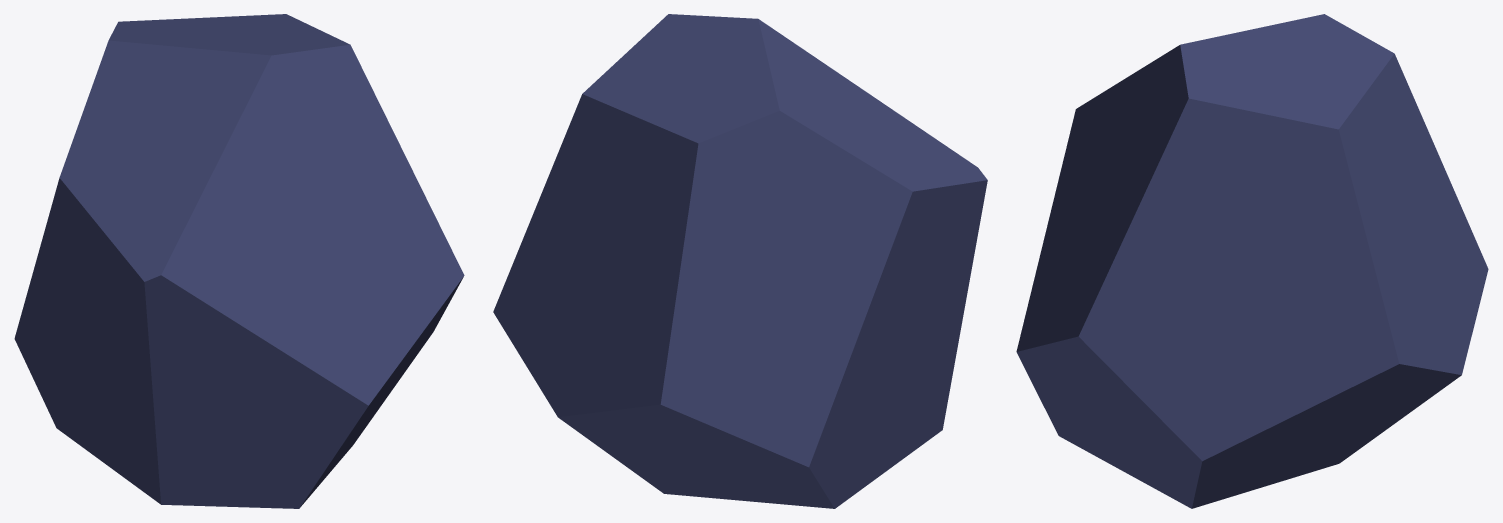
The model's file is StoneSmall1.fbx.
3 renders of one model, left to right at view 1: azimuth 30°, elevation 25°; view 2: azimuth 150°, elevation 25°; view 3: azimuth 270°, elevation 25°, orthographic. The views are drawn at different scales.
Parts seen in each view (by area): view 1: StoneSmall1; view 2: StoneSmall1; view 3: StoneSmall1.
Boxes of the visible parts, x1,y1,x2,y2 form: StoneSmall1: (14, 14, 464, 508); StoneSmall1: (493, 14, 987, 508); StoneSmall1: (1016, 14, 1488, 508).
Bounding box in the file's own units: 151 × 170 × 173.
Materials: 1 (1 with a texture image).
